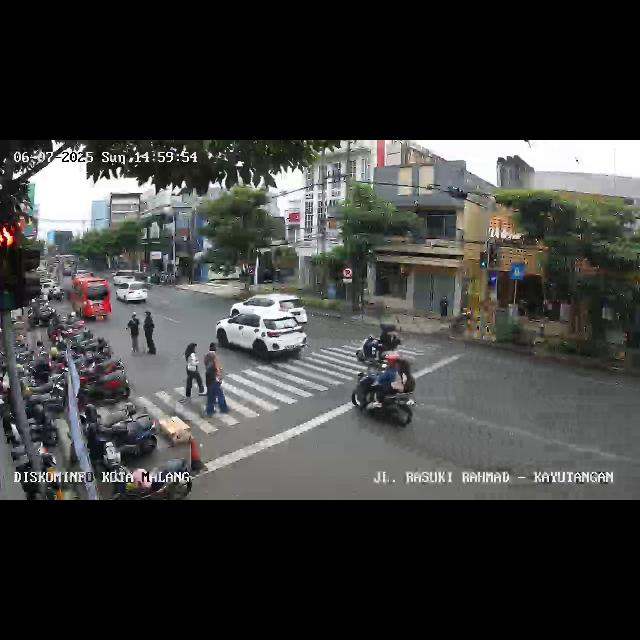car: (216, 311, 308, 365), (230, 294, 308, 326), (72, 278, 112, 322), (114, 280, 150, 304)
motorcycle: (355, 353, 419, 429), (356, 324, 404, 366)
person: (202, 350, 225, 424), (180, 340, 202, 404), (140, 309, 158, 357), (126, 309, 142, 355), (209, 342, 221, 384)
